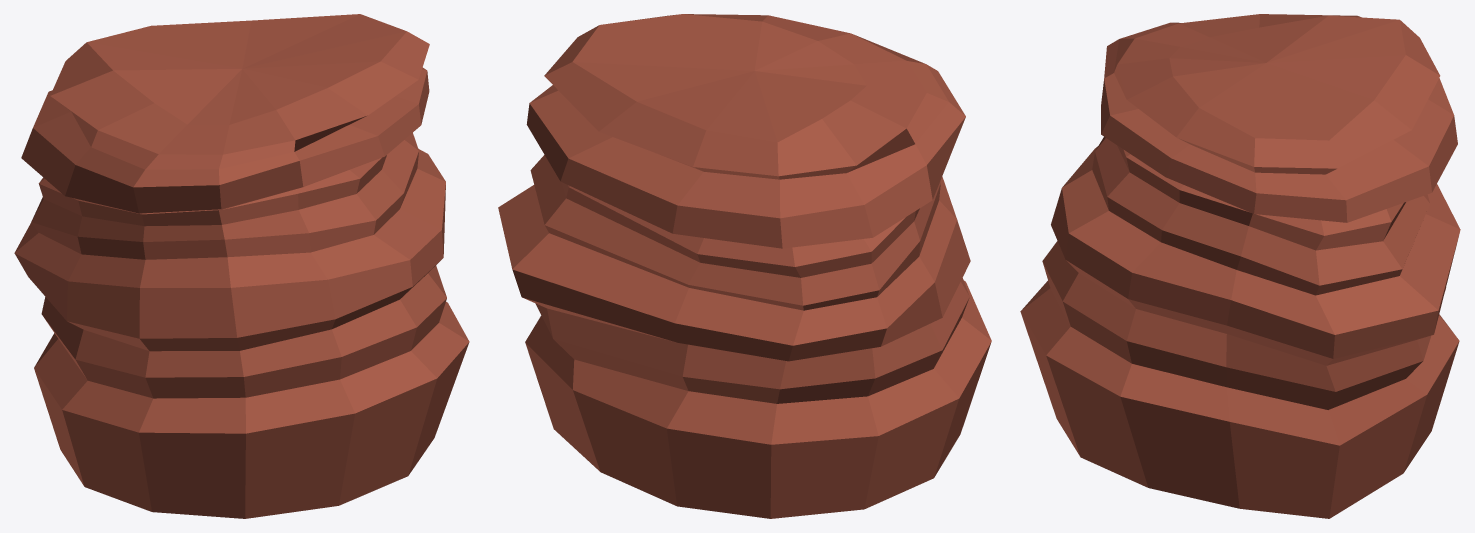
File: crag_006.fbx
The picture shows the model from 3 angles, left to right: view 1: azimuth 30°, elevation 25°; view 2: azimuth 150°, elevation 25°; view 3: azimuth 270°, elevation 25°; orthographic projection.
Visible parts, largest first — view 1: crag_006; view 2: crag_006; view 3: crag_006.
Boxes of the visible parts, left/top/right/bottom form: crag_006: left=14, top=14, right=469, bottom=518; crag_006: left=498, top=14, right=991, bottom=518; crag_006: left=1020, top=14, right=1460, bottom=518.
Size of the model in its own units: 990 by 915 by 872.
